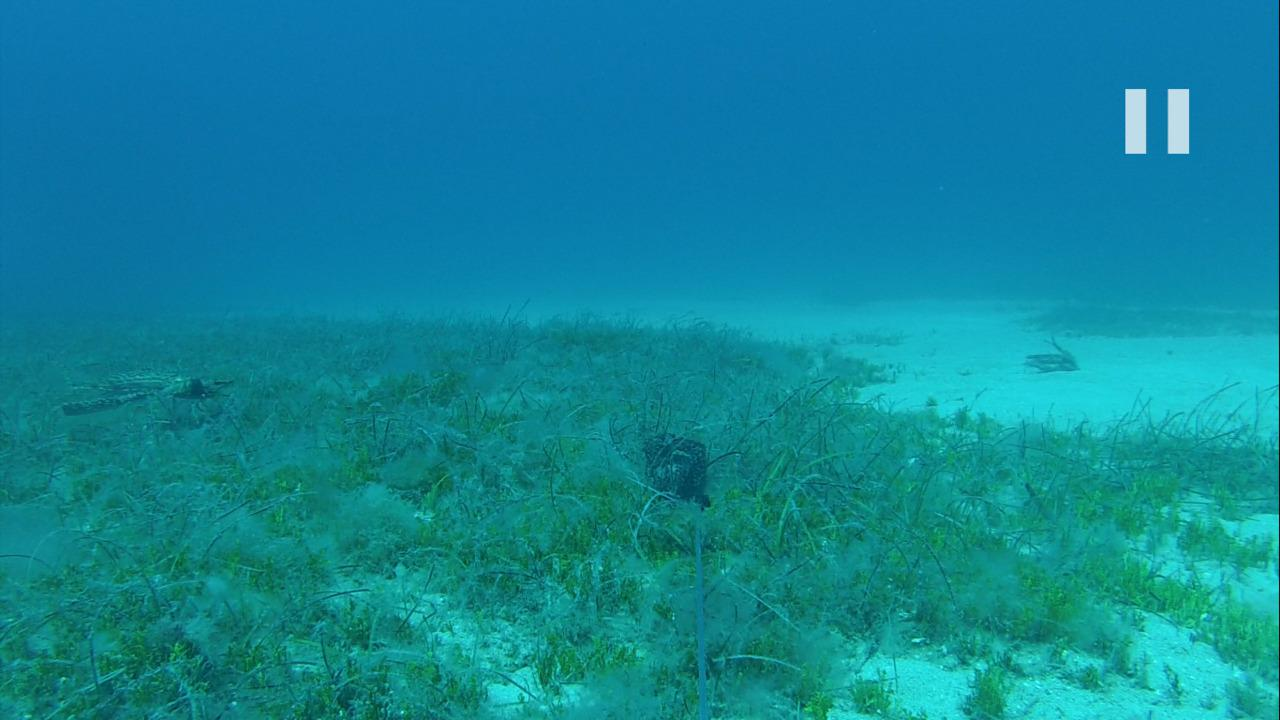dactylopterus: (13, 360, 236, 436)
